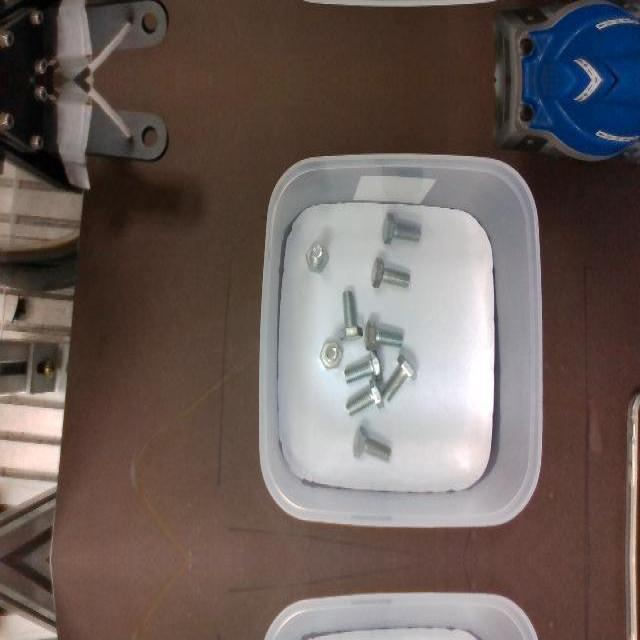screw: (381, 354, 417, 402), (345, 376, 383, 416), (352, 424, 391, 462), (344, 349, 382, 383), (382, 212, 421, 244), (371, 256, 410, 288), (364, 319, 403, 351), (339, 291, 363, 341), (304, 239, 328, 273), (319, 340, 342, 370)
